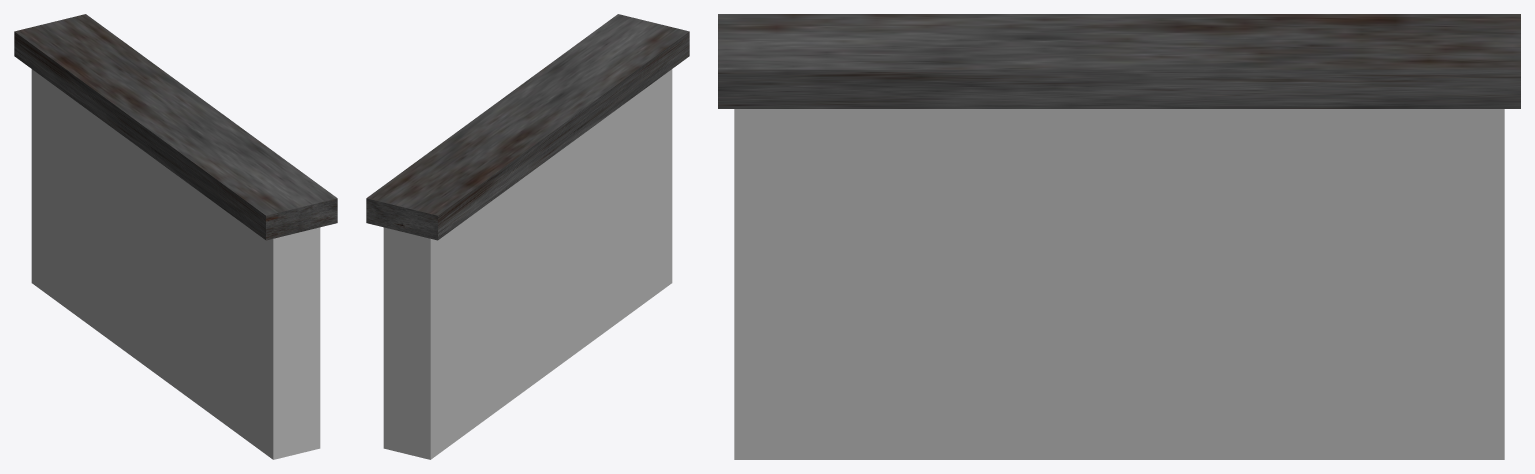
File: ExitSign.fbx
3 views of the same model, side by side, from view 1: azimuth 30°, elevation 25°; view 2: azimuth 150°, elevation 25°; view 3: azimuth 270°, elevation 25° (orthographic). The views are drawn at different scales.
Visible parts, largest first — view 1: Cube, Cube.001; view 2: Cube, Cube.001; view 3: Cube, Cube.001.
Boxes of the visible parts, left/top/right/bottom form: Cube: left=31, top=69, right=320, bottom=459; Cube.001: left=14, top=14, right=337, bottom=240; Cube: left=383, top=69, right=672, bottom=459; Cube.001: left=366, top=14, right=689, bottom=240; Cube: left=734, top=109, right=1504, bottom=459; Cube.001: left=718, top=14, right=1520, bottom=108.
Bounding box in the file's own units: 28.11 × 94.17 × 171.
